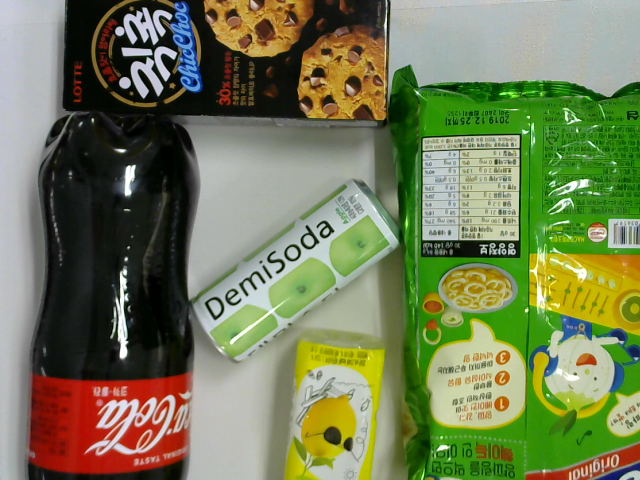Chicchok_Original_2400: (63, 1, 390, 130)
Coca_Cola_1.5L: (25, 110, 204, 480)
Demisoda_Apple_Can_250ml: (191, 180, 402, 367)
Oninon_Ring: (389, 63, 640, 480)
Sunkist_Lemonaid_Pet: (281, 328, 389, 480)
